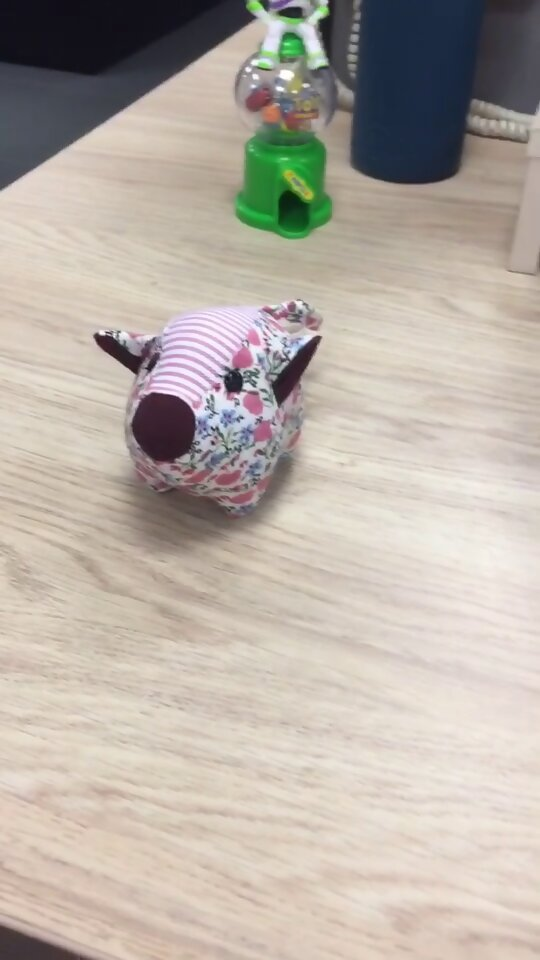pig: (90, 296, 328, 518)
